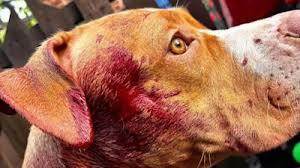bleeding: (79, 51, 163, 135)
